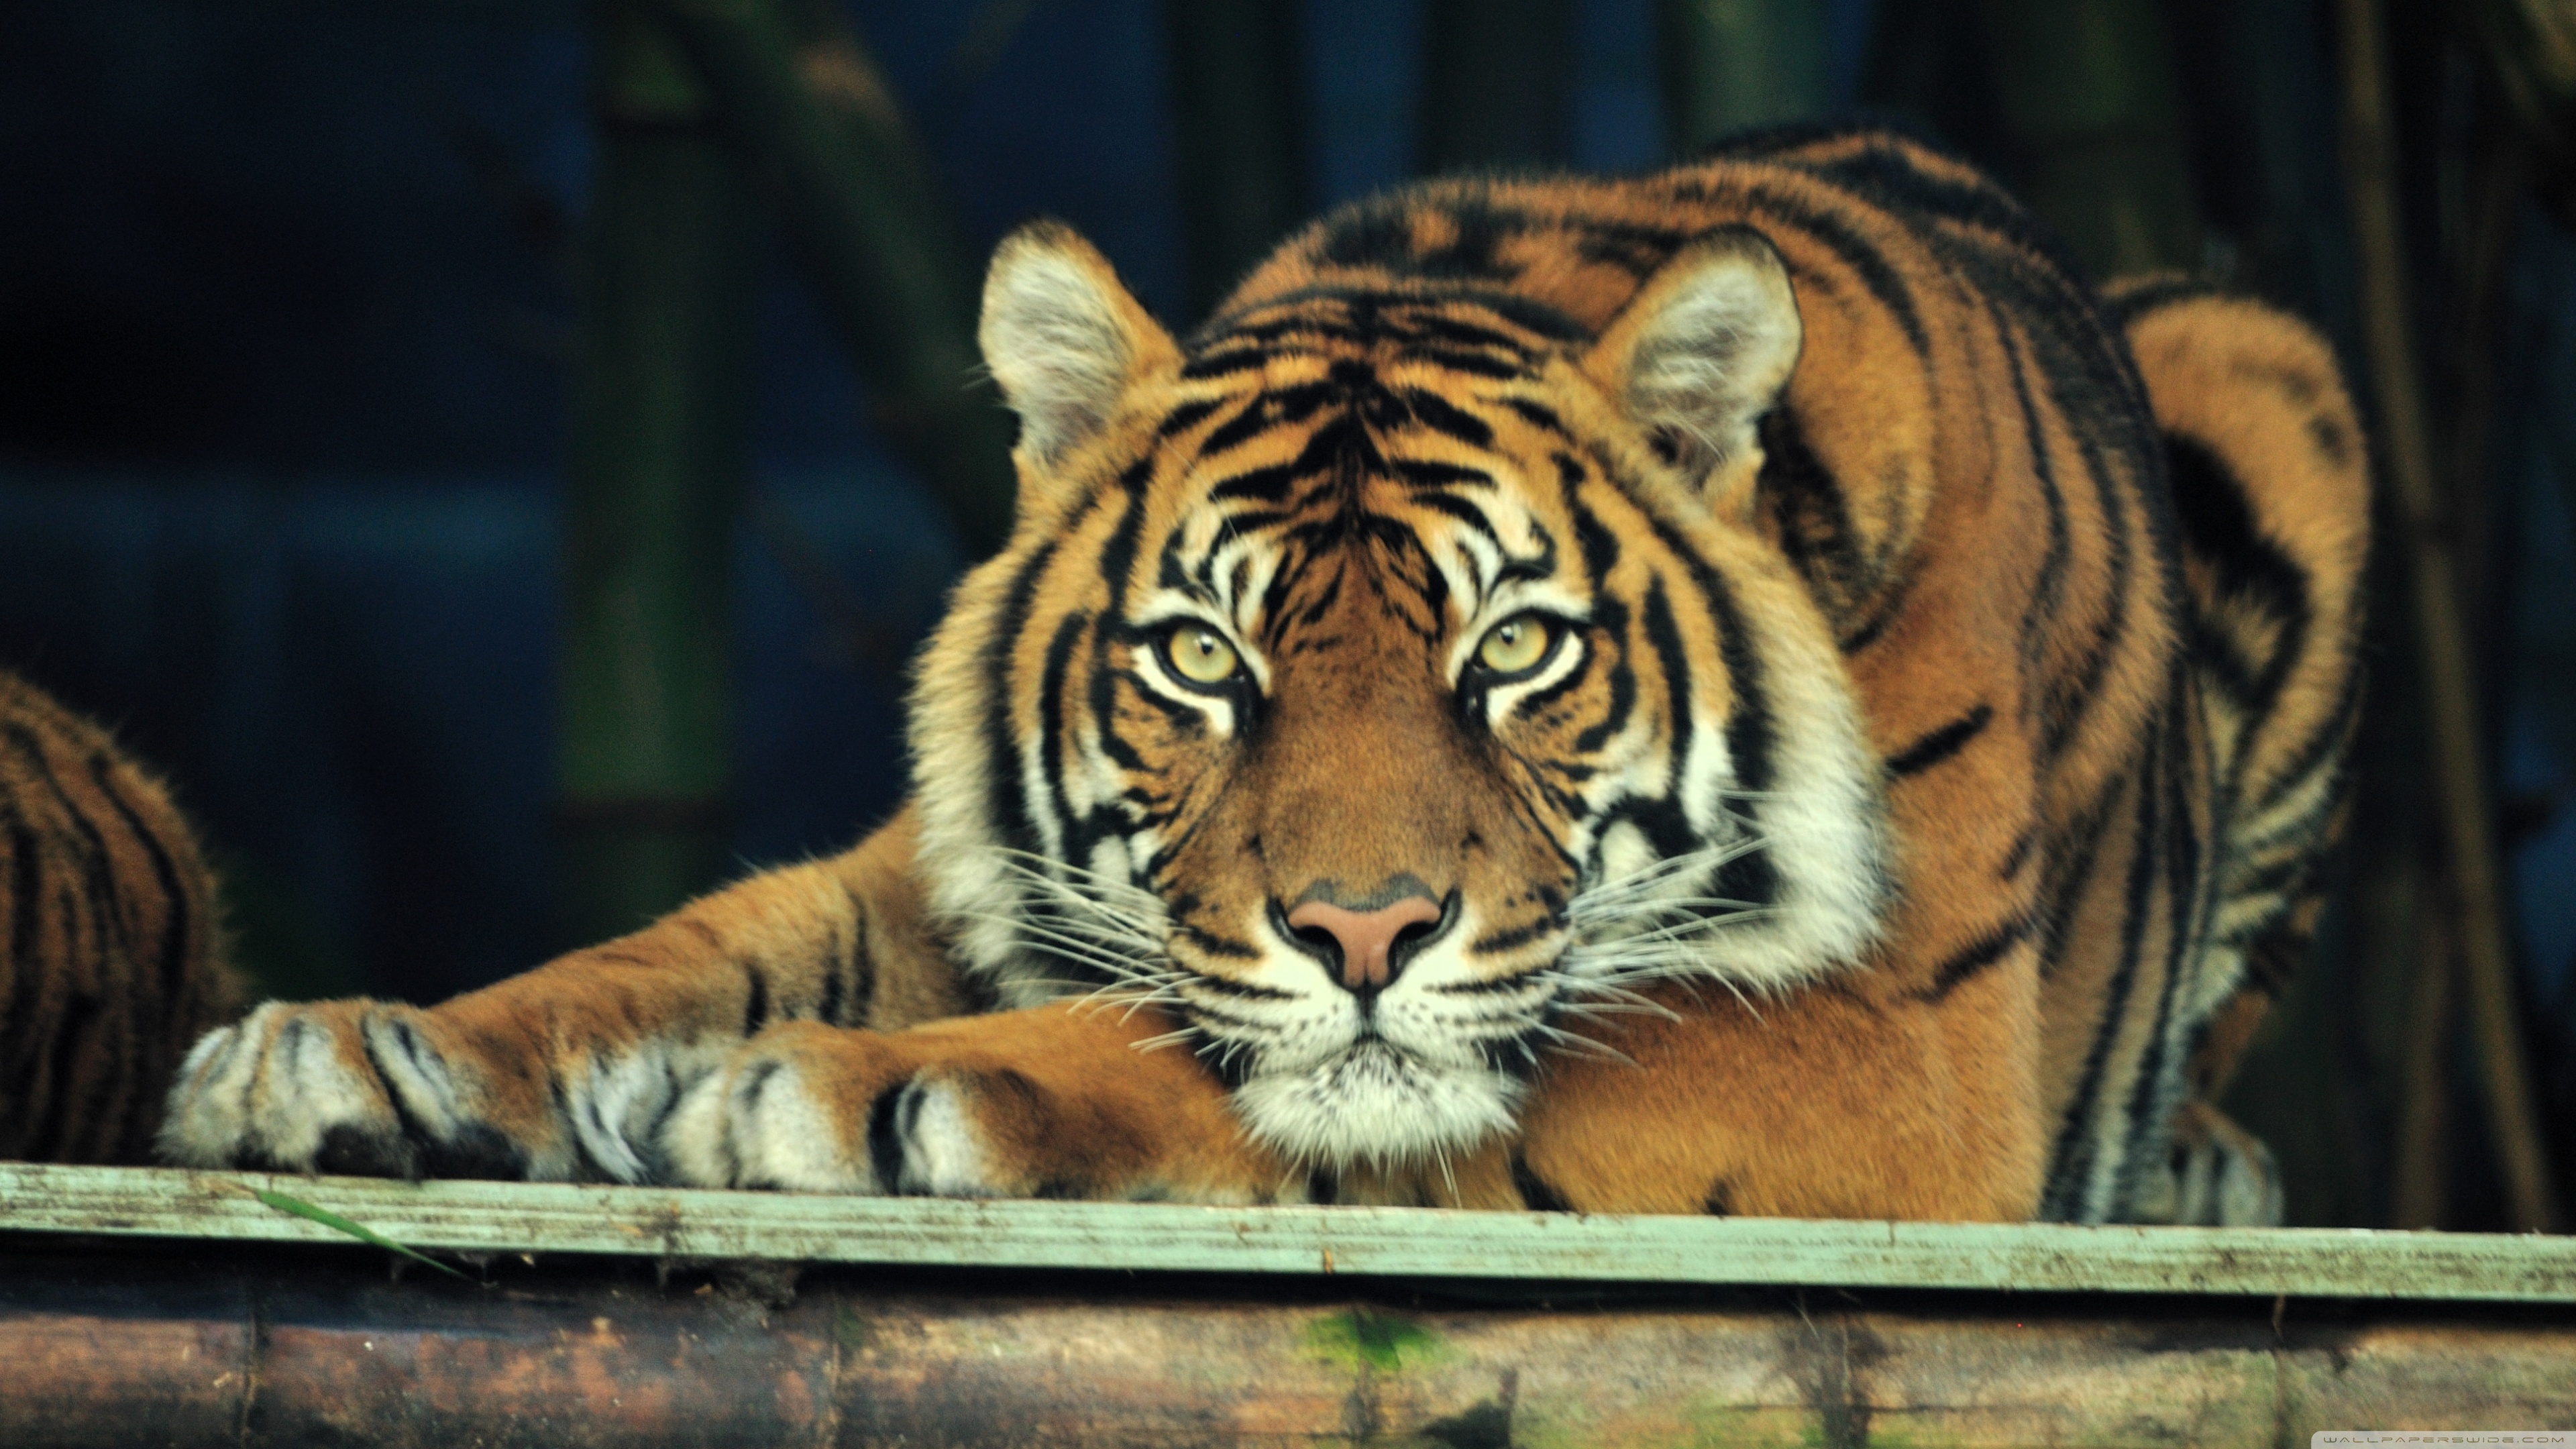tiger: (283, 175, 2335, 1272)
